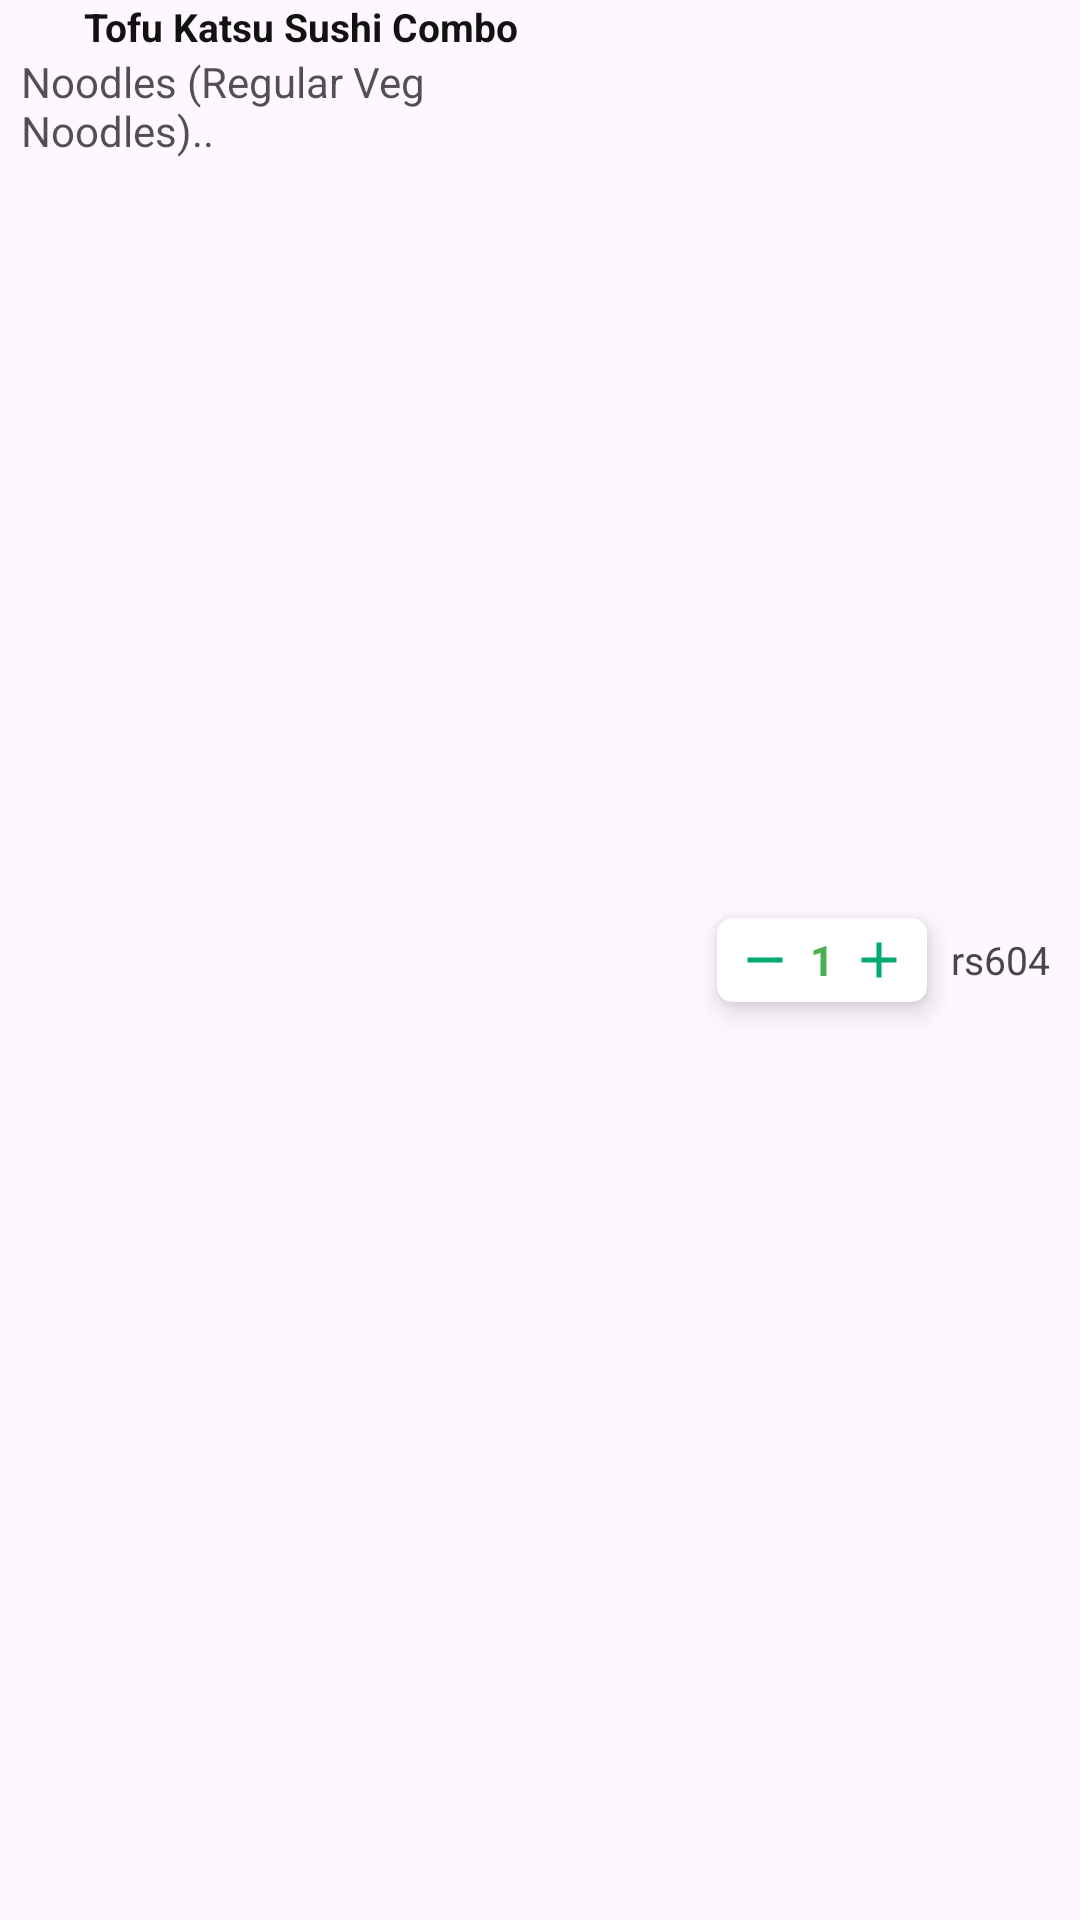

Named icons in this screenshot (1080x1920) and their bounding boxes, (x1,y1,x2,y2):
add: (861,942,897,978)
remove: (747,957,783,963)
